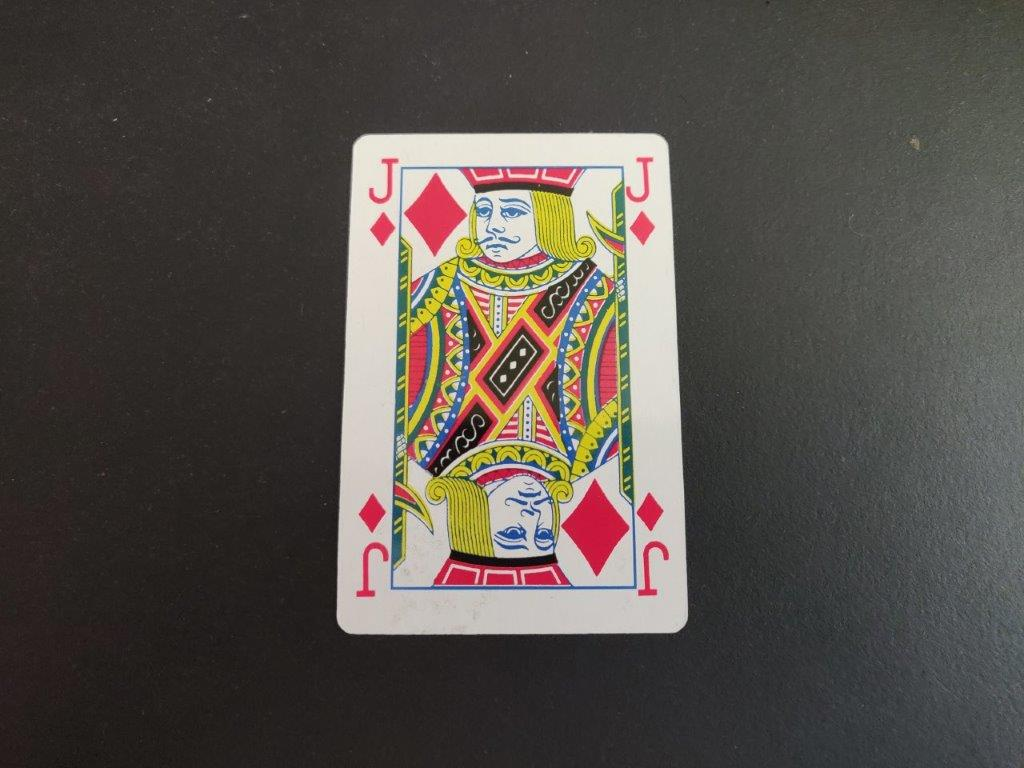JD: (361, 153, 402, 245), (622, 154, 661, 249)
